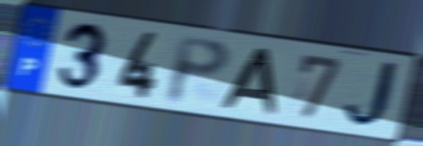3: (55, 19, 110, 94)
4: (114, 29, 160, 100)
7: (298, 52, 341, 120)
A: (218, 45, 280, 117)
J: (342, 59, 407, 131)
P: (164, 34, 233, 107)
